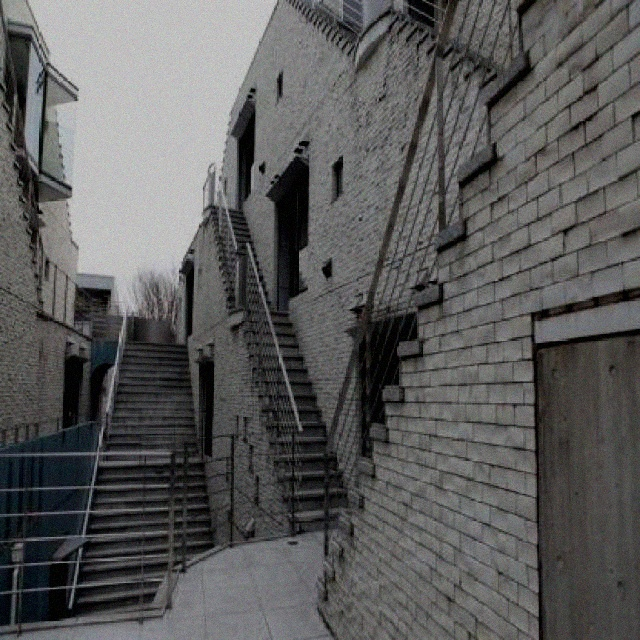stair: (211, 205, 349, 534), (72, 331, 218, 612), (0, 69, 48, 306), (394, 6, 508, 82), (286, 0, 359, 54)
